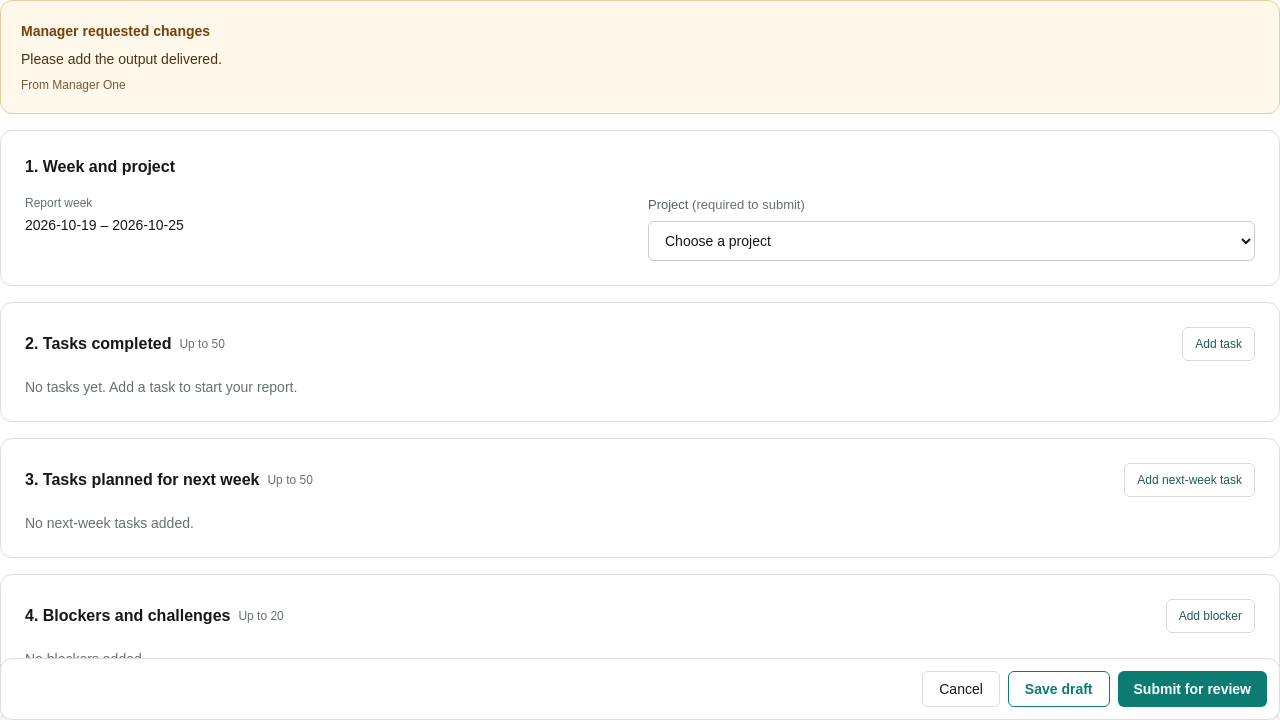
Scenario: ReportEditor › blocks submit until required project and report content are complete
Click the button "Submit for review" at coordinates (1192, 689), box [1118,671,1267,707]
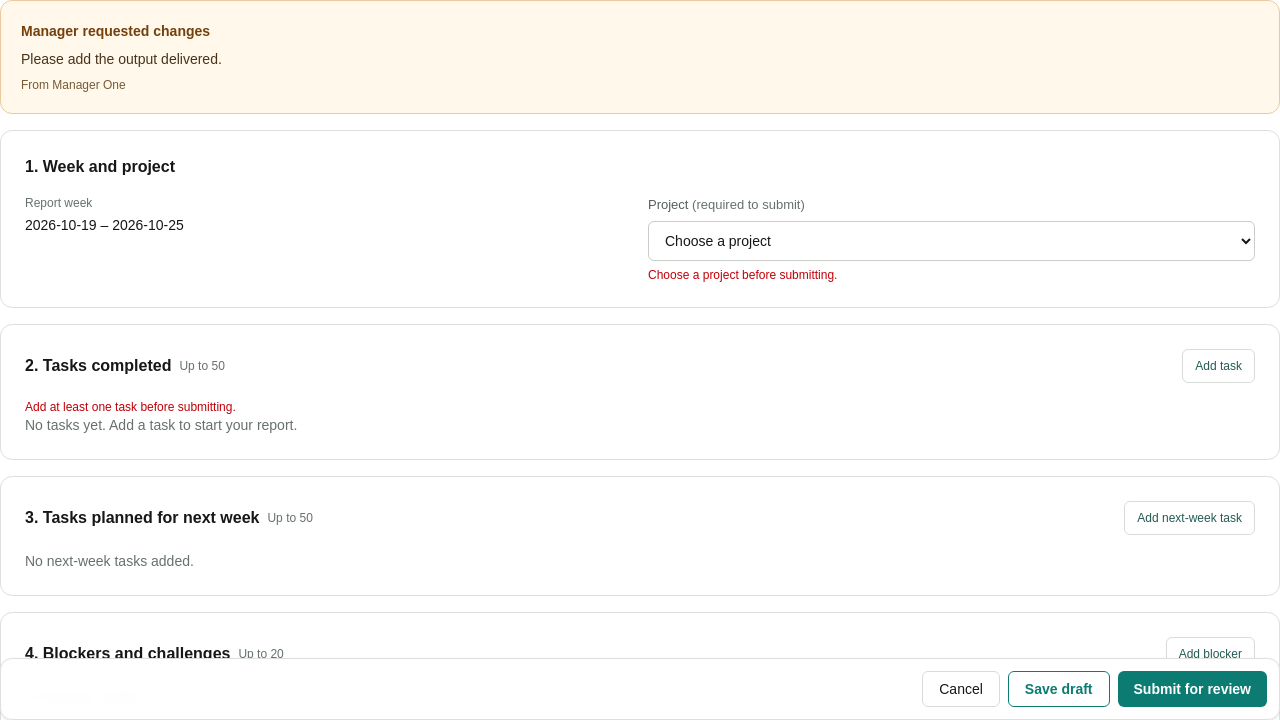
Expected: the text "Choose a project before submitting." is shown, [648,268,838,282]
Expected: the text "Add at least one task before submitting." is shown, [25,400,236,414]
